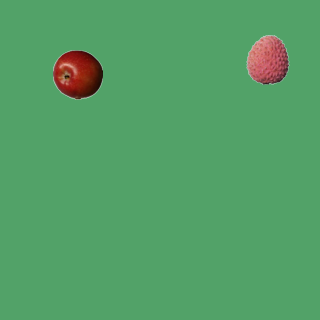Apple Braeburn: (52, 49, 102, 99)
Lychee: (242, 34, 292, 84)
